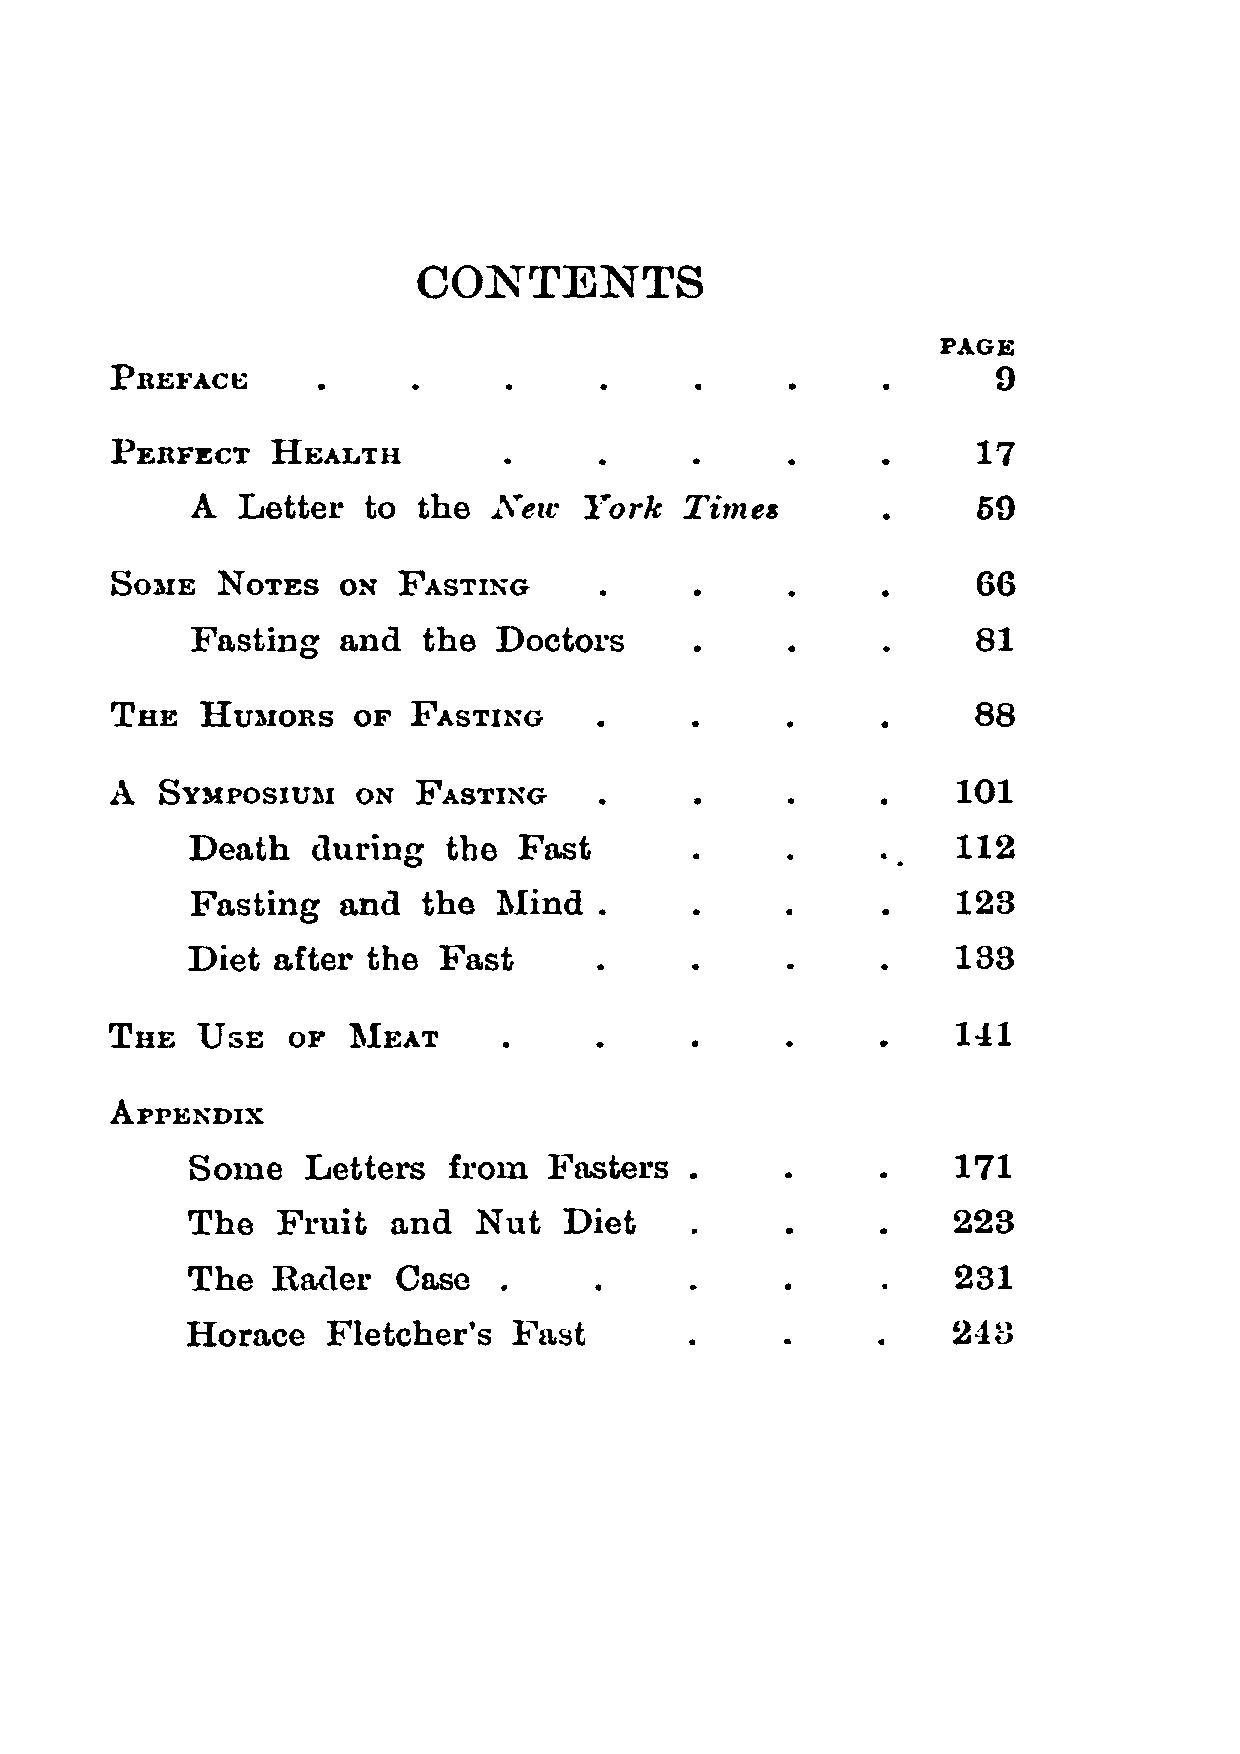TOC_chapter: (188, 487, 789, 527), (106, 564, 534, 607), (181, 1149, 674, 1184), (187, 623, 631, 658), (103, 692, 548, 727), (187, 884, 593, 921), (183, 1206, 637, 1239), (185, 831, 596, 866), (106, 774, 556, 805), (183, 1317, 595, 1350), (181, 935, 522, 972), (107, 432, 405, 472), (103, 1019, 446, 1052), (180, 1261, 467, 1295), (107, 1092, 280, 1130), (106, 354, 248, 397)
TOC_pagenumber: (951, 939, 1023, 974), (951, 1011, 1015, 1049), (954, 1260, 1020, 1295), (954, 1147, 1015, 1184), (949, 1206, 1028, 1233), (953, 831, 1017, 862), (951, 1315, 1017, 1343), (955, 884, 1021, 913), (974, 697, 1021, 735), (969, 494, 1025, 523), (955, 774, 1015, 803), (972, 621, 1019, 655), (972, 568, 1019, 599), (976, 436, 1020, 464), (994, 360, 1024, 400)
chapter: (413, 259, 703, 302)
